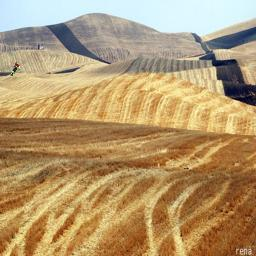Woodpecker: (9, 62, 21, 77)
